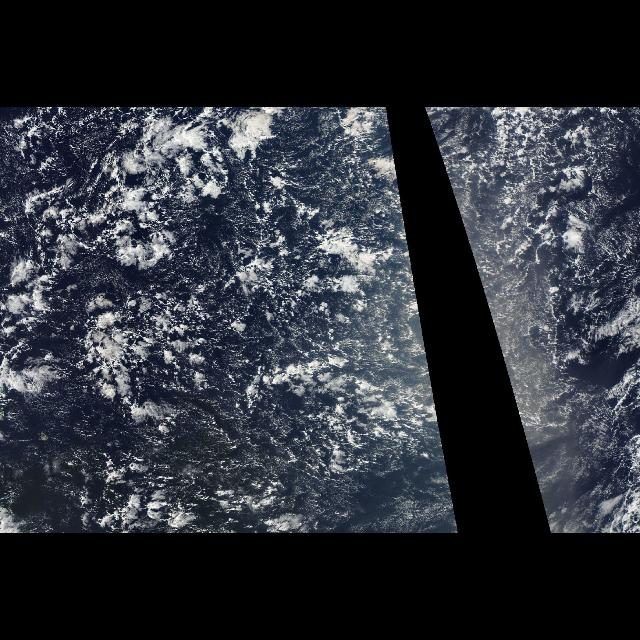Flower: (27, 110, 416, 518)
Gravel: (1, 107, 460, 533), (424, 107, 640, 533)
